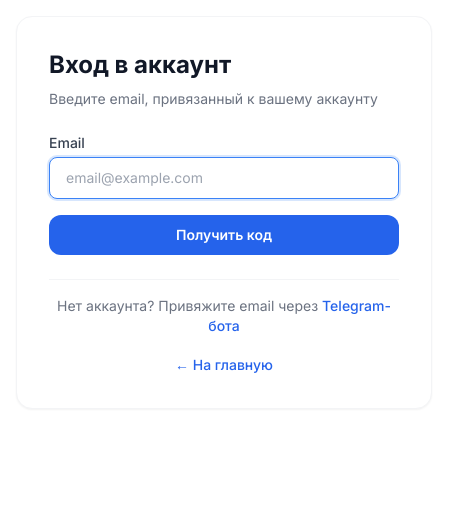
Test: LoginForm › shows the disposable-email error
Type "user@temp.mail" into the field labelled "Email".
click(224, 178); type("user@temp.mail")  # box [49, 157, 399, 199]
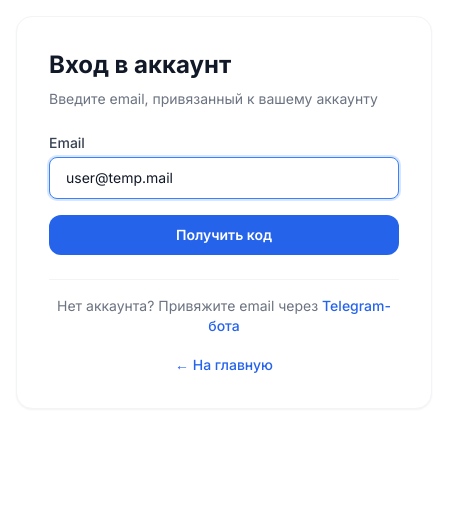
Click the button "Получить код".
click(224, 235)  # box [49, 215, 399, 255]
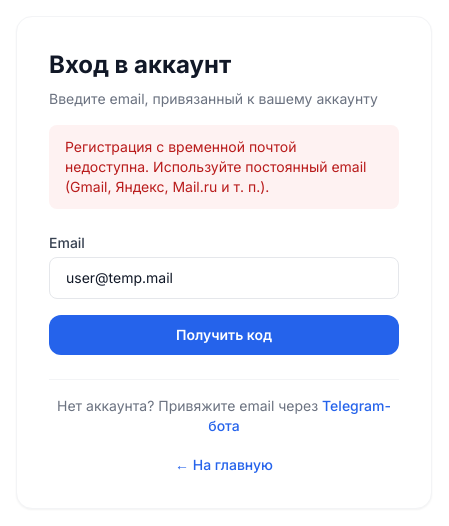
expect the text "временной почтой" is shown: met, box [65, 138, 366, 195]
